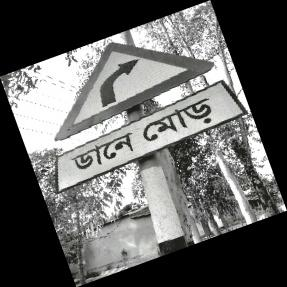Right-turn: (56, 39, 246, 189)
